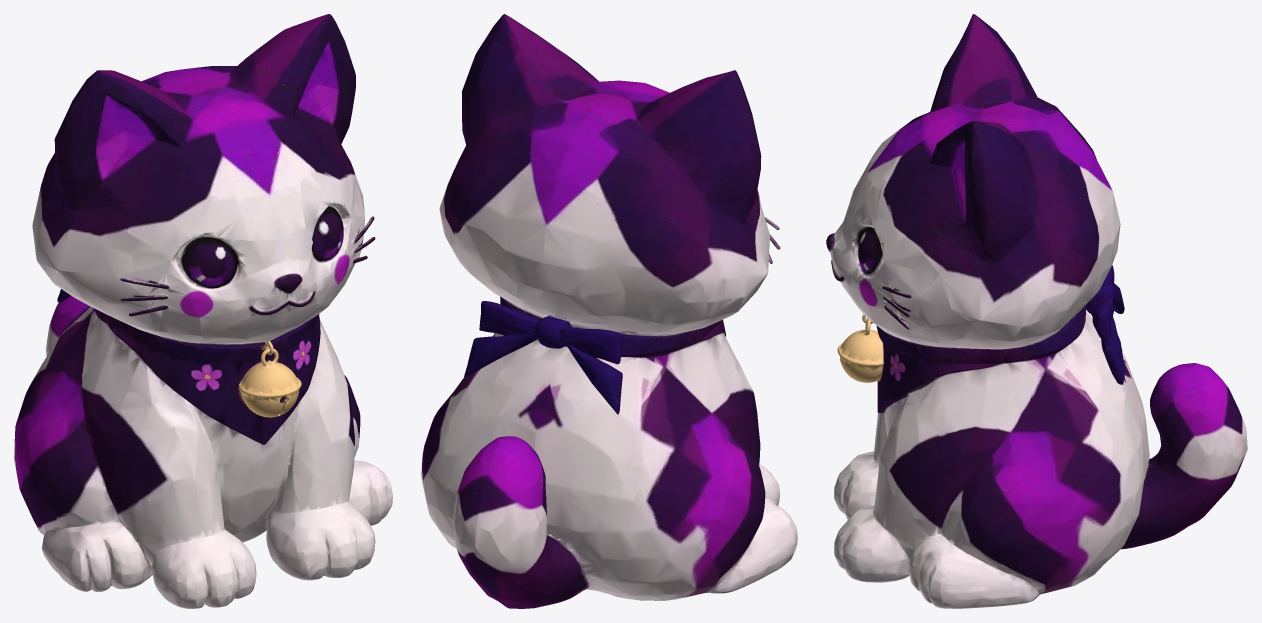
The model's file is cat-sitting.glb.
The picture shows the model from 3 angles, left to right: view 1: azimuth 30°, elevation 25°; view 2: azimuth 150°, elevation 25°; view 3: azimuth 270°, elevation 25°; orthographic projection. The views are drawn at different scales.
Size of the model in its own units: 1.28 by 1.9 by 1.54.
Materials: 1 (1 with a texture image).
